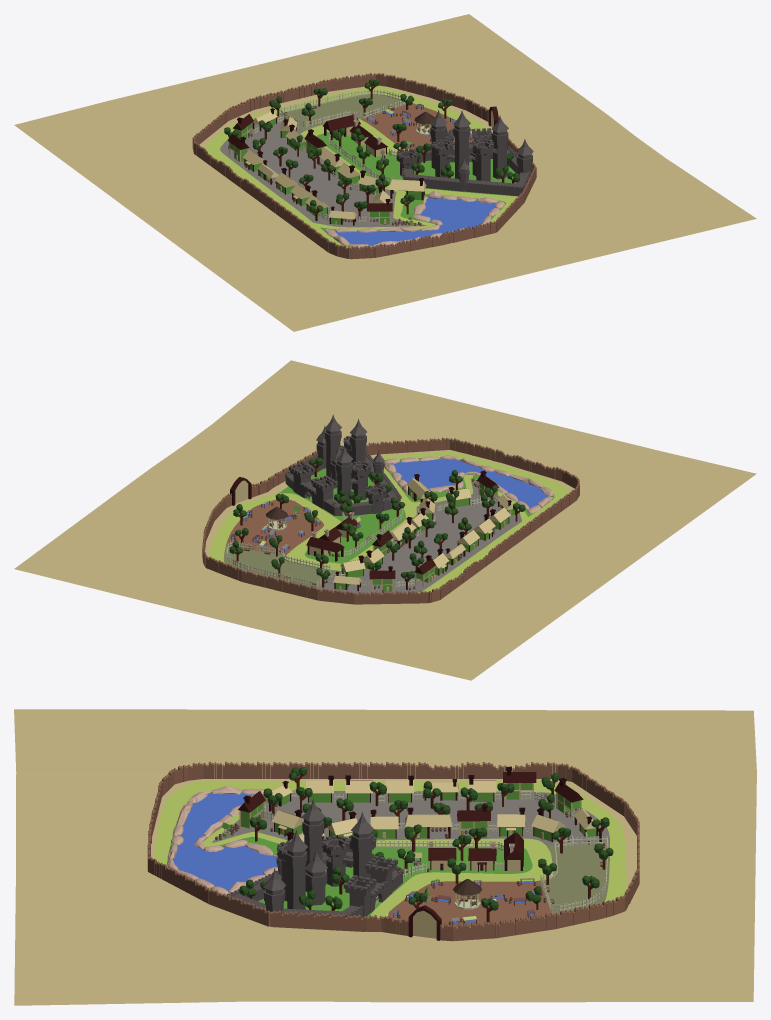
Rendered from VillageTrack 1.fbx.
3 renders of one model, top to bottom at view 1: azimuth 30°, elevation 25°; view 2: azimuth 150°, elevation 25°; view 3: azimuth 270°, elevation 25°, orthographic. The views are drawn at different scales.
Parts seen in each view (by area): view 1: OutsideLand, Houses, Castle/Middle, OutterWall, Market/Farm, Water, Track; view 2: OutsideLand, Houses, Castle/Middle, OutterWall, Market/Farm, Track, Water; view 3: OutsideLand, Houses, OutterWall, Castle/Middle, Market/Farm, Track, Water.
Part boxes in pixels (x1=…): OutsideLand: x1=14, y1=14, x2=756, y2=331; Houses: x1=220, y1=96, x2=426, y2=227; Castle/Middle: x1=316, y1=110, x2=533, y2=196; OutterWall: x1=192, y1=73, x2=536, y2=259; Market/Farm: x1=279, y1=79, x2=473, y2=149; Water: x1=320, y1=191, x2=505, y2=248; Track: x1=204, y1=86, x2=517, y2=247; OutsideLand: x1=14, y1=360, x2=756, y2=680; Houses: x1=318, y1=470, x2=525, y2=594; Castle/Middle: x1=278, y1=414, x2=405, y2=563; OutterWall: x1=202, y1=437, x2=579, y2=604; Market/Farm: x1=223, y1=493, x2=338, y2=588; Track: x1=208, y1=451, x2=570, y2=593; Water: x1=383, y1=455, x2=554, y2=516; OutsideLand: x1=14, y1=709, x2=756, y2=1005; Houses: x1=212, y1=767, x2=609, y2=849; OutterWall: x1=147, y1=761, x2=639, y2=941; Castle/Middle: x1=227, y1=799, x2=532, y2=917; Market/Farm: x1=387, y1=818, x2=613, y2=926; Track: x1=154, y1=780, x2=626, y2=927; Water: x1=167, y1=786, x2=279, y2=894.
Size of the model in its own units: 2239 by 333 by 2370.
